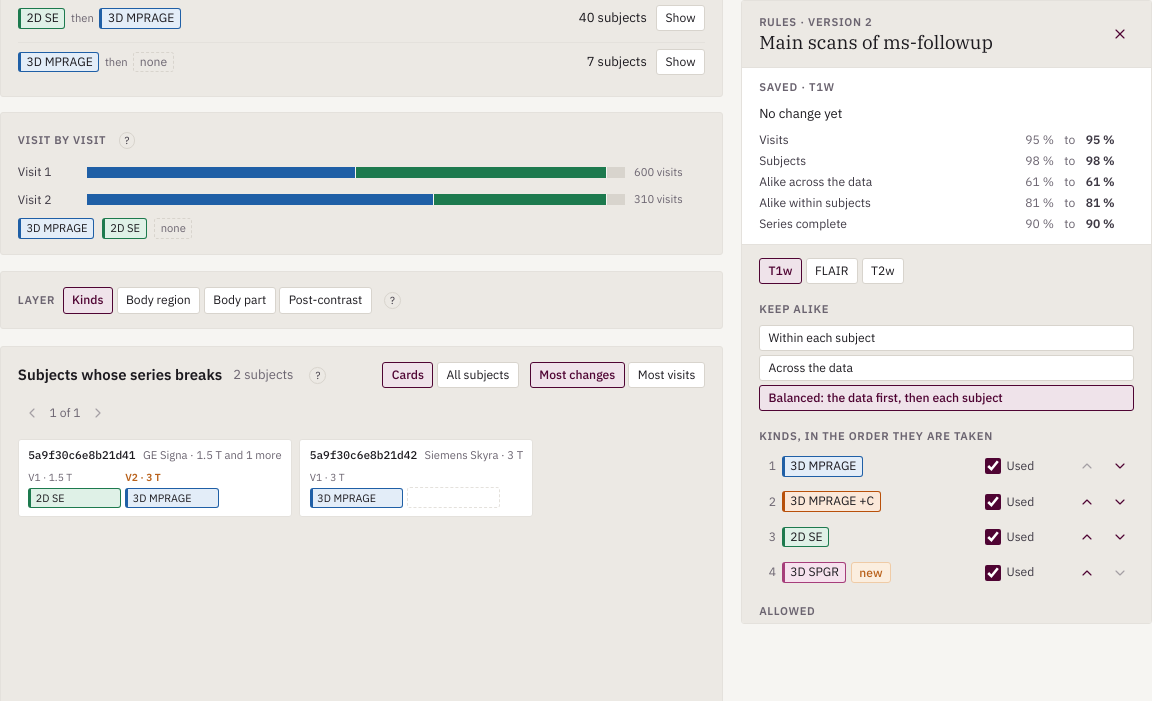
Scenario: Main scans of a cohort › withdraws a person's pick of a visit in the scope
(page scrolled)
Click the button "V1 · 3 T 3D MPRAGE". click: coordinates (356, 489)
box: 310,470 -> 403,508
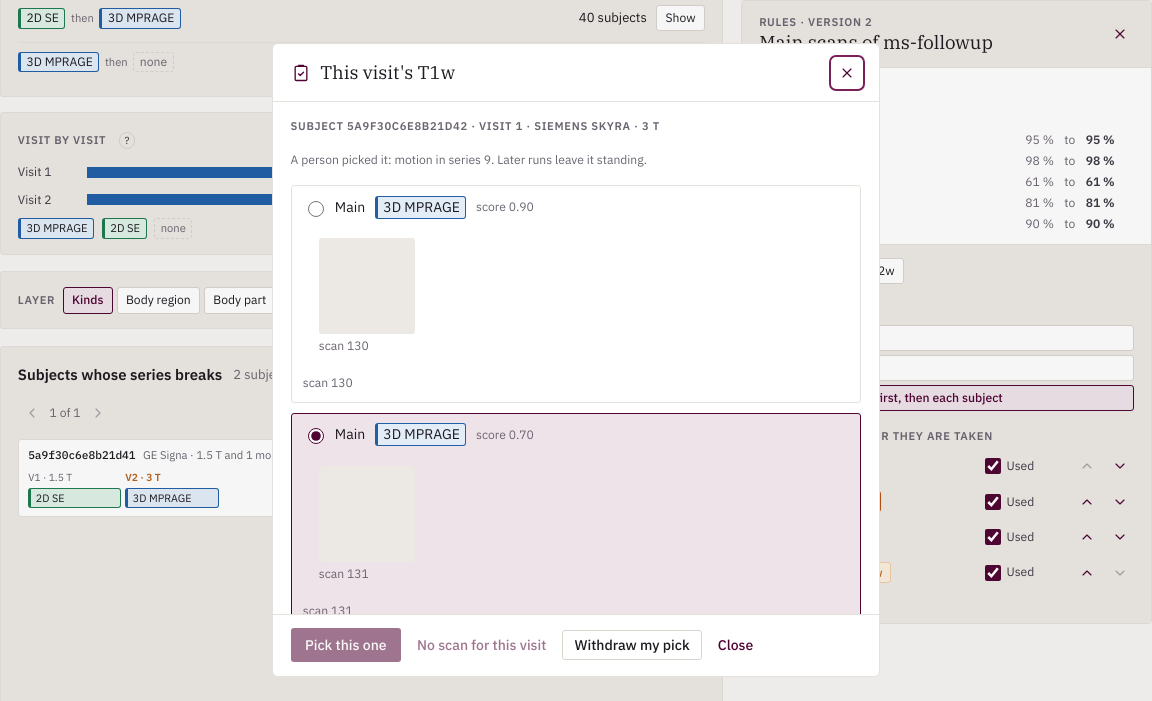
Expected: the dialog shows "A person picked it: motion in series 9. Later runs leave it standing.", 291,152 -> 647,167
Click the button "Withdraw my pick". click: coordinates (632, 645)
box: 562,630 -> 702,660
(page scrolled)
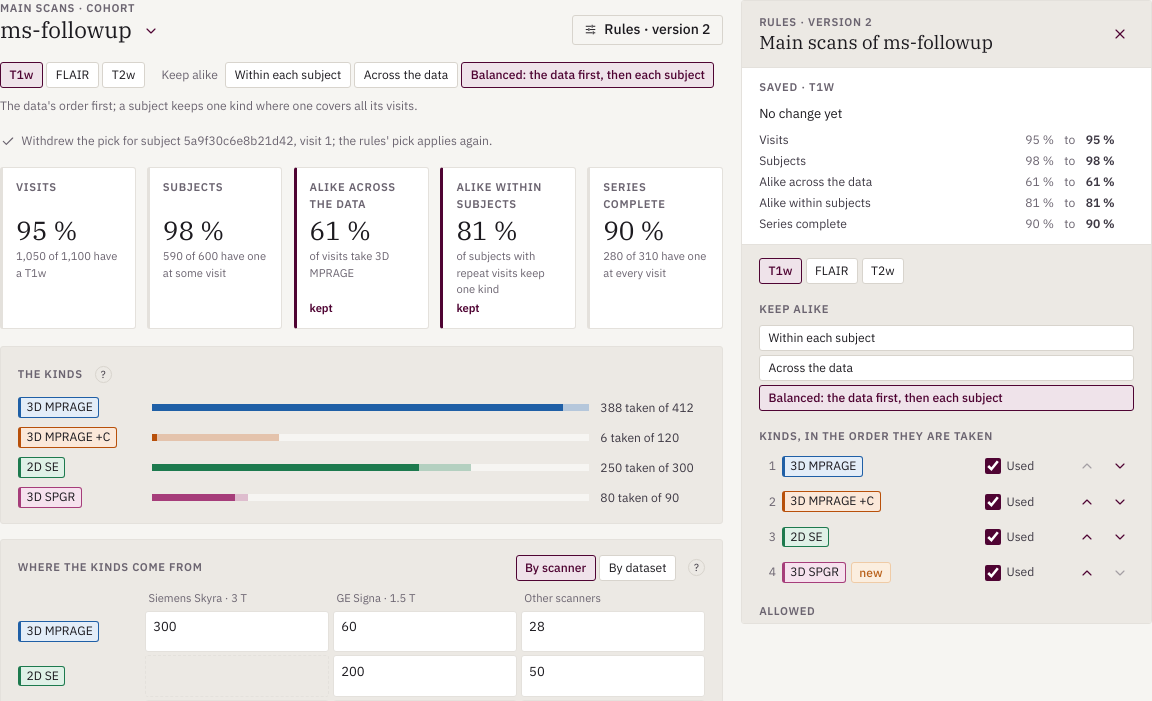
Expected: the message with class "ms-said" shows "Withdrew the pick for subject 5a9f30c6e8b21d42, visit 1; the rules' pick applies again.", 22,133 -> 492,148
